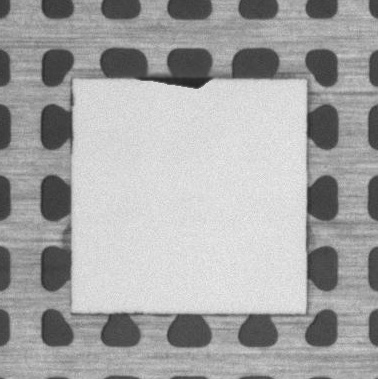DIE_BROKEN: (139, 74, 214, 91)
